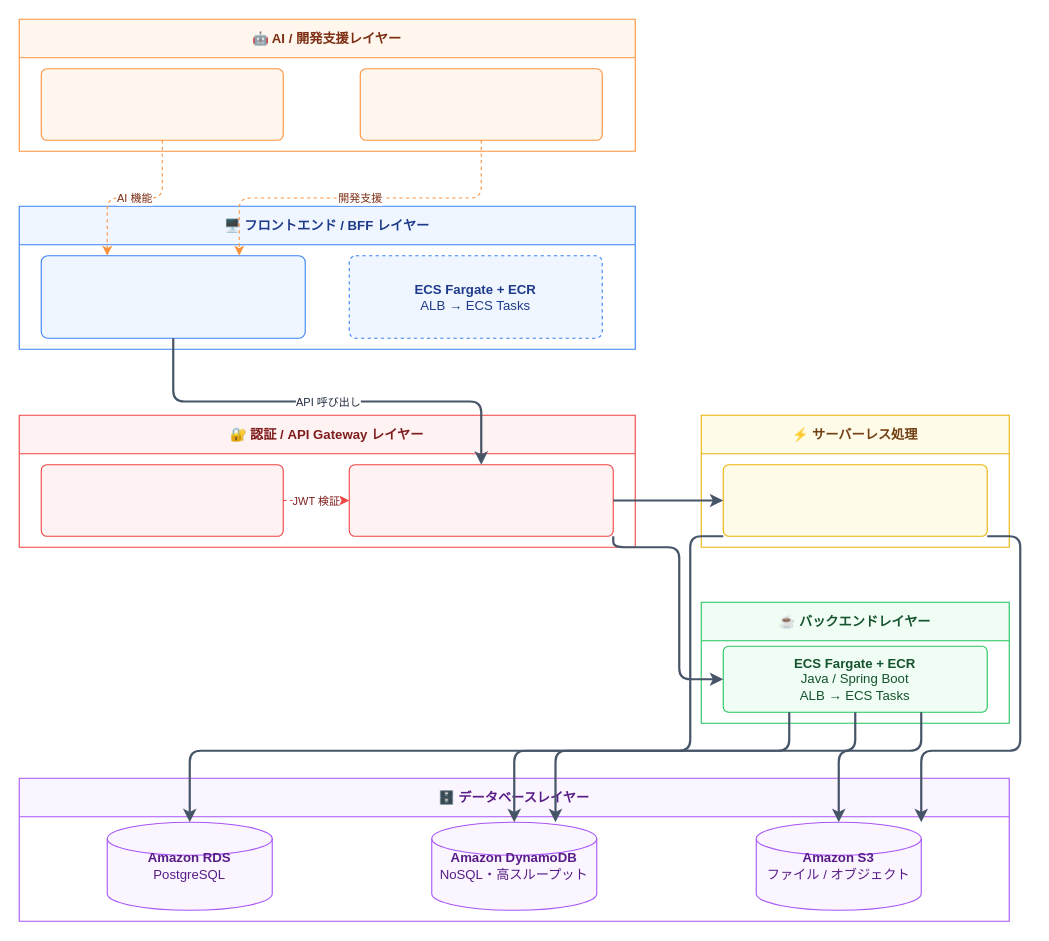
Image size: 1049x941. Some labels were removed from this diagram. The centre of each missing label's shape, as x and y in pixels:
"Amazon API Gateway REST / HTTP API レート制限・ルーティング・Authorizer" belongs at point 480,500.
"Amazon Bedrock Claude 等 LLM API RAG・チャット・要約" belongs at point 161,104.
"Amazon Cognito ユーザープール / IDプール" belongs at point 161,500.
"AWS Lambda 非同期・軽量単機能 通知・バッチ・変換" belongs at point 854,500.
"Claude Code コーディングエージェント 全開発者が利用" belongs at point 480,104.
"Next.js App Router + API Routes BFF / Server Actions でトークン保持 バックエンド呼び出しを集約・変換" belongs at point 172,296.
